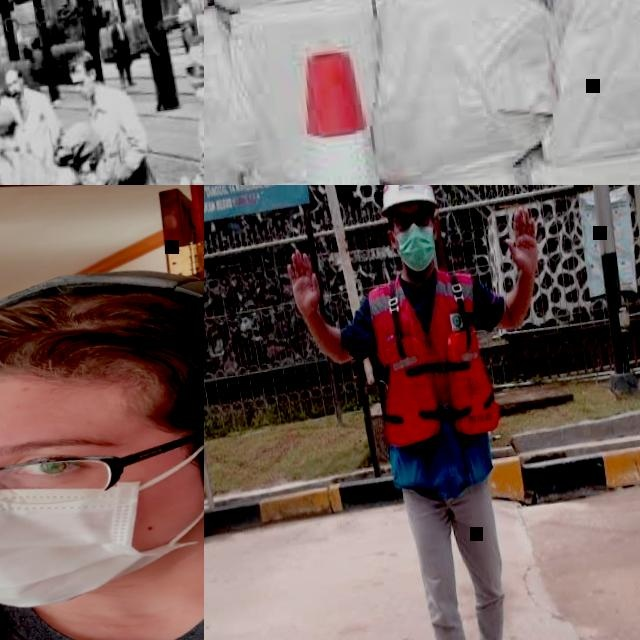Hardhat: (374, 185, 435, 209)
Mask: (0, 455, 204, 626), (392, 222, 440, 276), (75, 168, 97, 185), (2, 136, 18, 152), (76, 86, 93, 101), (193, 84, 204, 104)
NO-Hardhat: (0, 245, 204, 418), (51, 119, 105, 163), (179, 39, 204, 76), (65, 48, 98, 75), (0, 107, 22, 137), (2, 66, 23, 83), (110, 10, 120, 18), (174, 0, 187, 2)
NO-Safety Vest: (0, 518, 204, 640), (84, 91, 132, 162), (11, 93, 46, 147), (192, 94, 204, 178), (0, 144, 24, 185), (110, 24, 129, 46), (174, 7, 191, 27), (0, 97, 12, 113)
Person: (269, 185, 596, 640), (0, 227, 204, 640), (63, 41, 156, 185), (22, 114, 149, 185), (2, 59, 62, 145), (171, 36, 204, 185), (106, 9, 135, 89), (174, 0, 198, 50), (0, 74, 14, 109)
Safety Cone: (209, 37, 493, 185)
Safety Vest: (364, 263, 504, 452)
